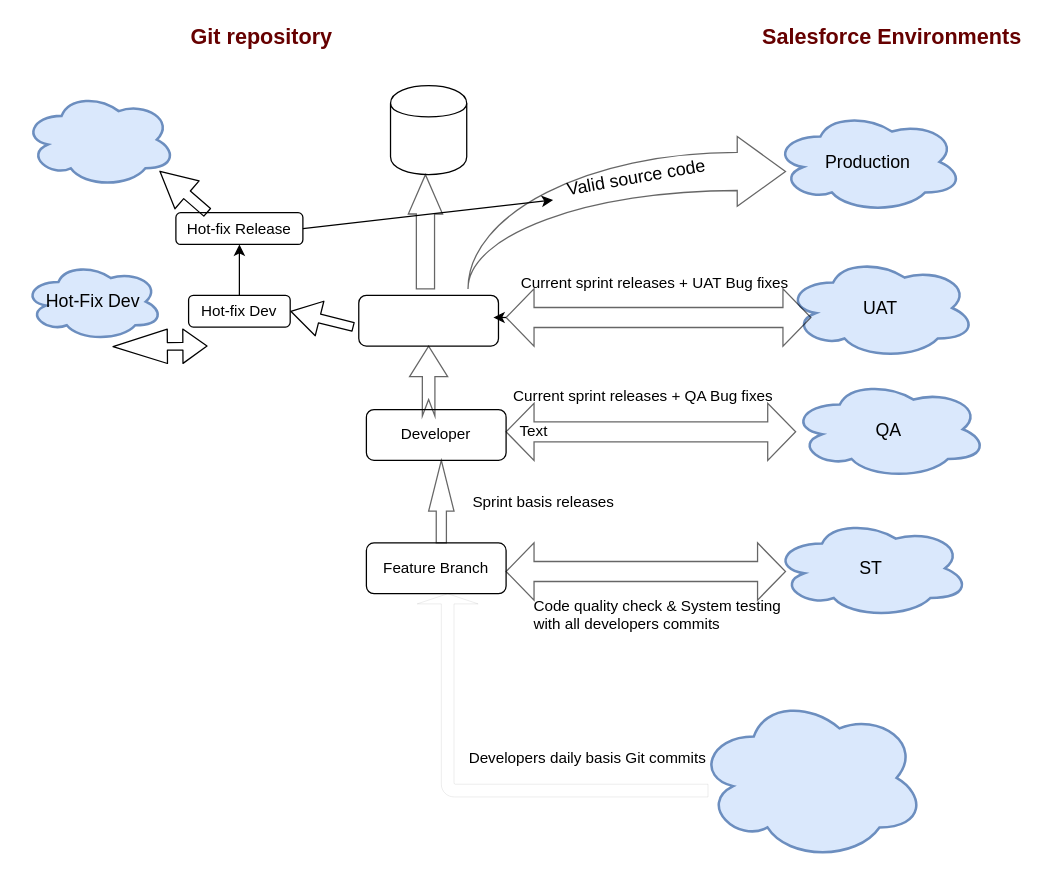
Some shapes in this 1060 by 883 pixel diagram are drawn without their labels. The centre of each missing label's shape, as x and y in pixels:
"Development SB" belongs at [810,777].
"Hot-Fix QA" belongs at [99,139].
"Master" belongs at [428,129].
"Release Branch" belongs at [428,320].
